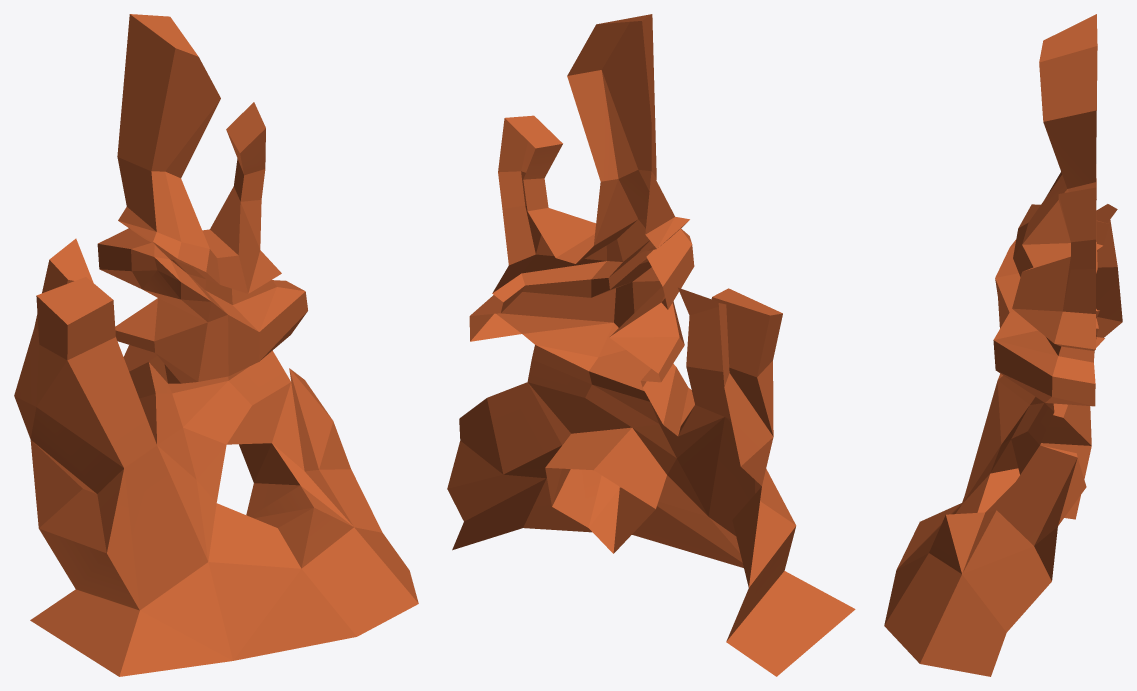
The picture shows the model from 3 angles, left to right: view 1: azimuth 30°, elevation 25°; view 2: azimuth 150°, elevation 25°; view 3: azimuth 270°, elevation 25°; orthographic projection. The views are drawn at different scales.
Parts seen in each view (by area): view 1: 对象007; view 2: 对象007; view 3: 对象007.
Boxes of the visible parts, box(x1,y1,x2,y2) form: 对象007: box(14, 14, 418, 676); 对象007: box(447, 14, 855, 676); 对象007: box(884, 14, 1122, 676).
Size of the model in its own units: 3475 by 5650 by 2198.
